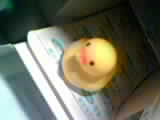duck: (61, 28, 115, 90)
